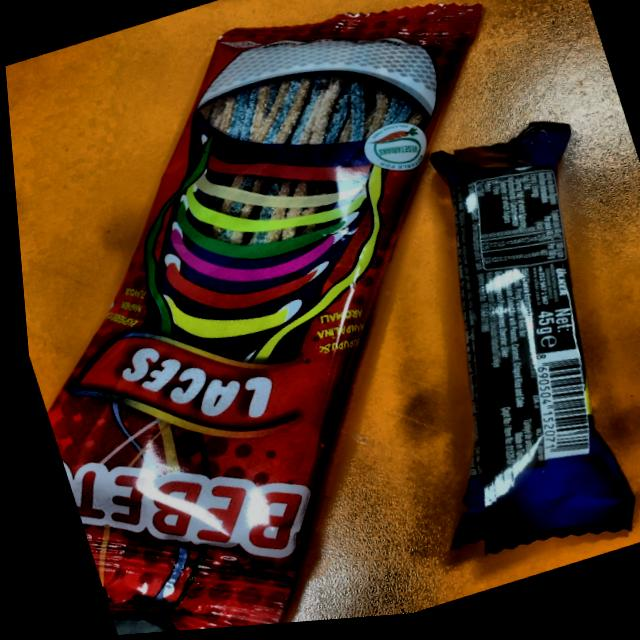Plastic: (46, 8, 501, 630), (409, 117, 640, 568)
